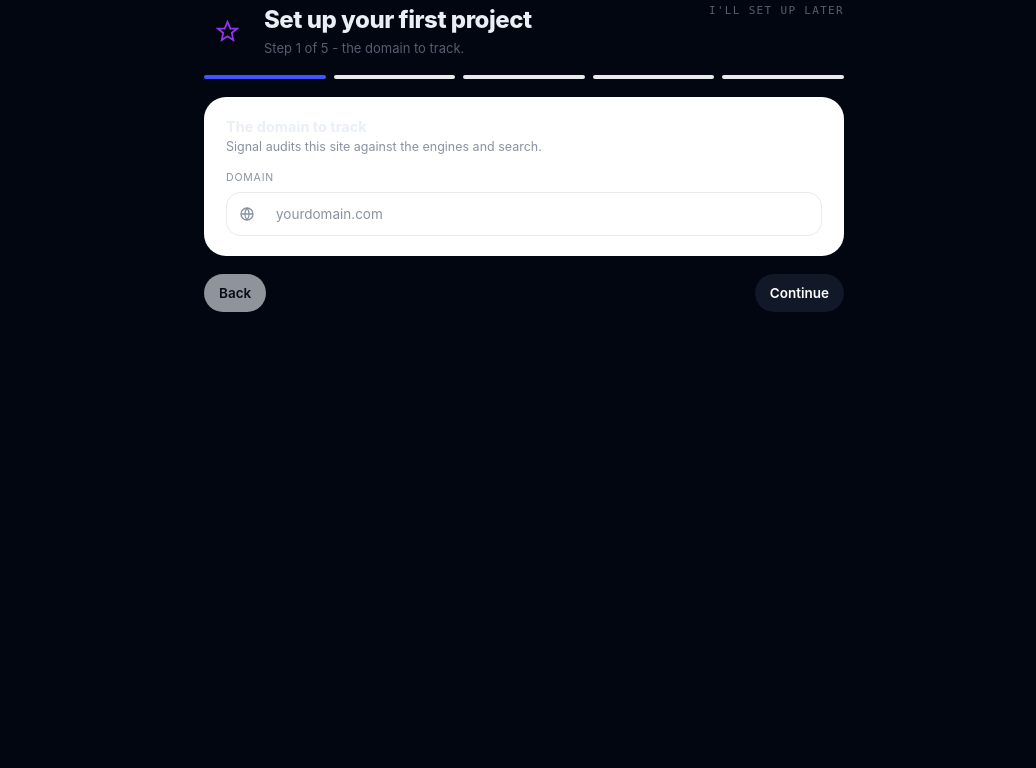
it: DashboardOverviewPage › announces load failures and retries the project fetch
This screenshot has width=1036, height=768.
Click the button "I'll set up later" at [776, 10], box [709, 4, 844, 17]
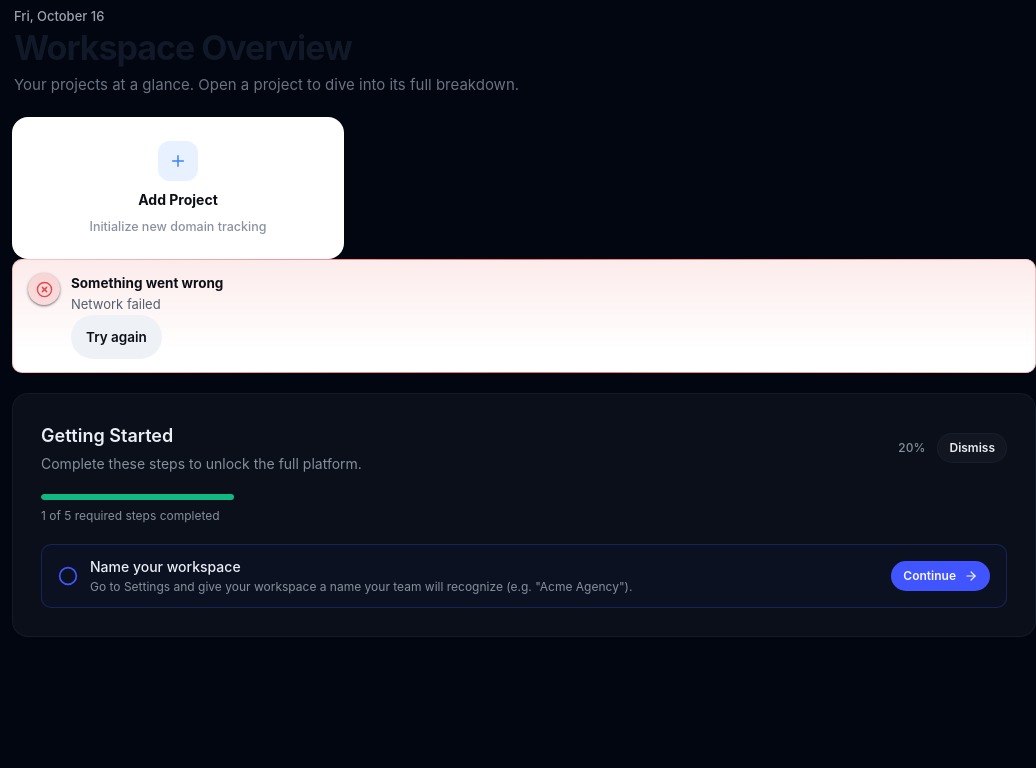
Now the message shows "Network failed", box [71, 296, 161, 312]
Click the button "Try again" at [116, 337], box [71, 315, 162, 359]
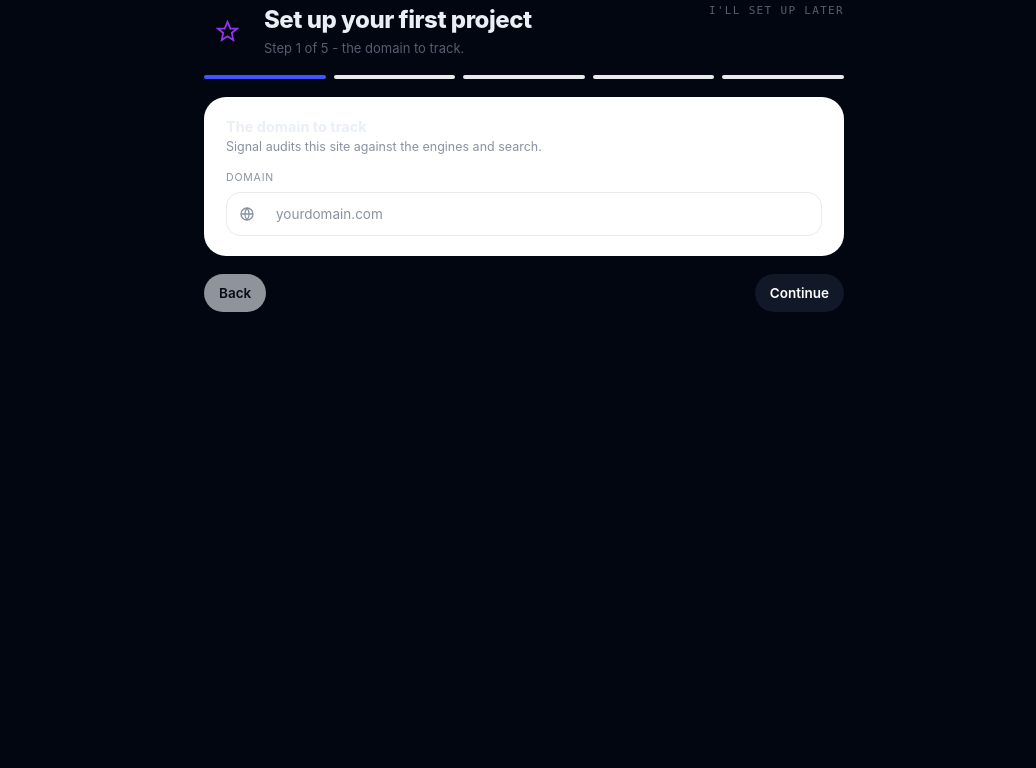
Click the button "I'll set up later" at [776, 10], box [709, 4, 844, 17]
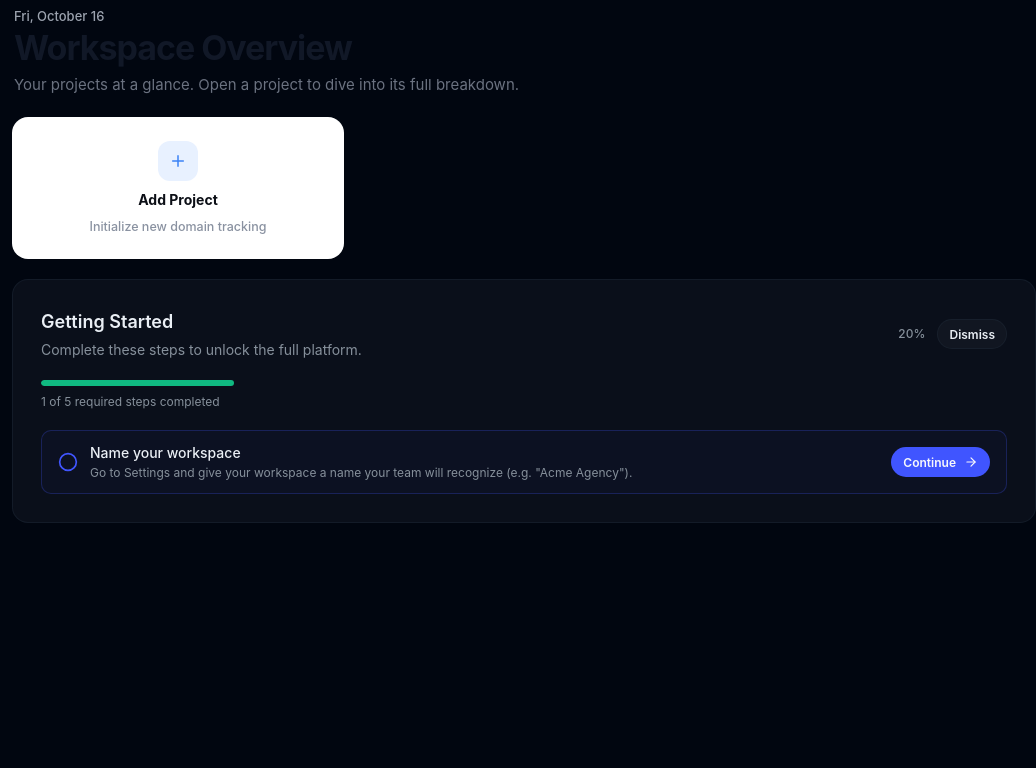
Now the button "Add Project Initialize new domain tracking" is shown, box [12, 117, 344, 259]
